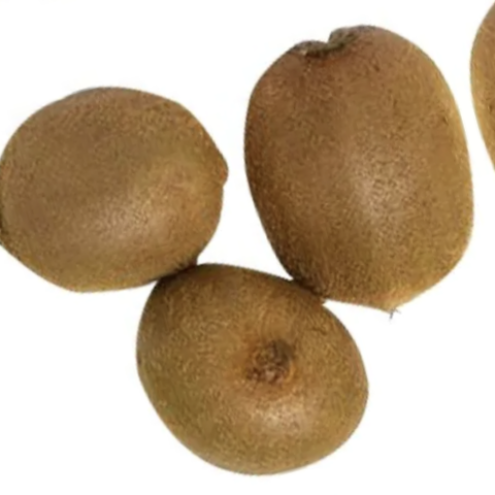kiwi: (198, 0, 495, 363), (87, 206, 407, 495), (0, 30, 264, 319)
